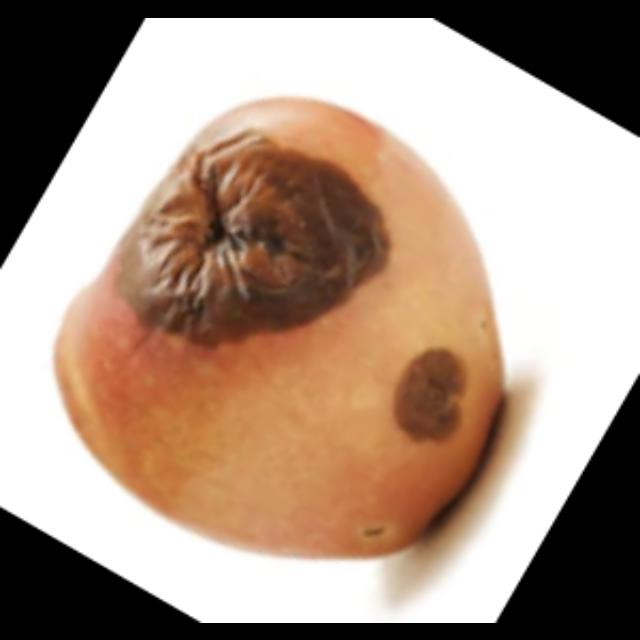Apel Tidak Segar: (43, 96, 510, 564)
